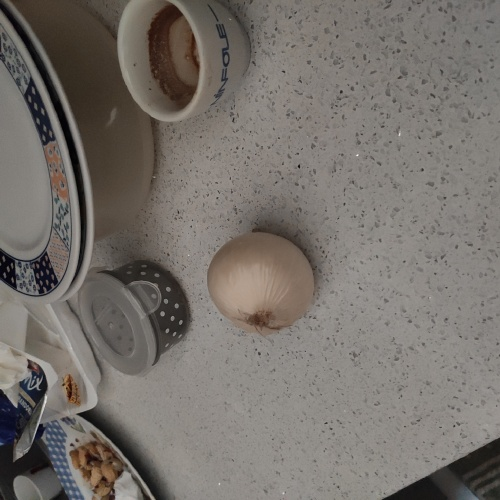cipolla: (205, 226, 325, 340)
